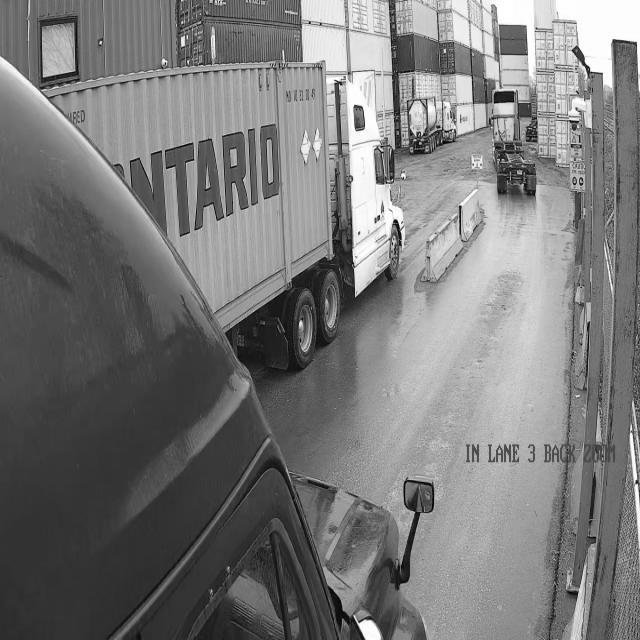enterance: (463, 438, 630, 475)
truck_cabin: (0, 60, 428, 639)
truck_with_container: (54, 62, 404, 368), (406, 97, 456, 153)
truck_without_container: (492, 88, 536, 195)
